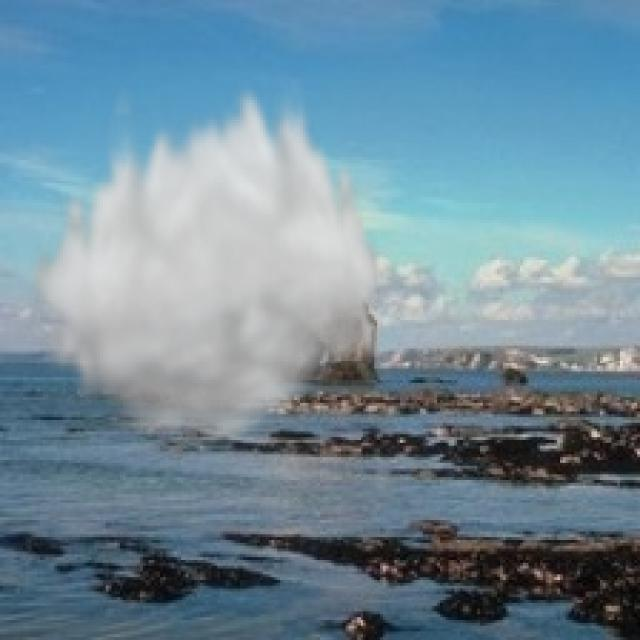smoke: (26, 74, 386, 452)
